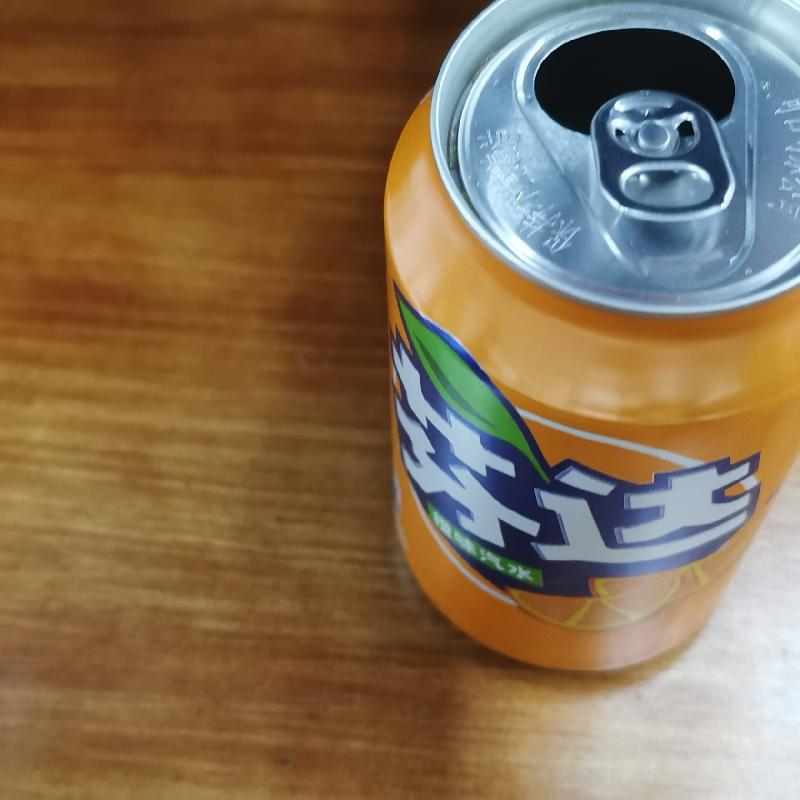cans: (376, 1, 800, 691)
